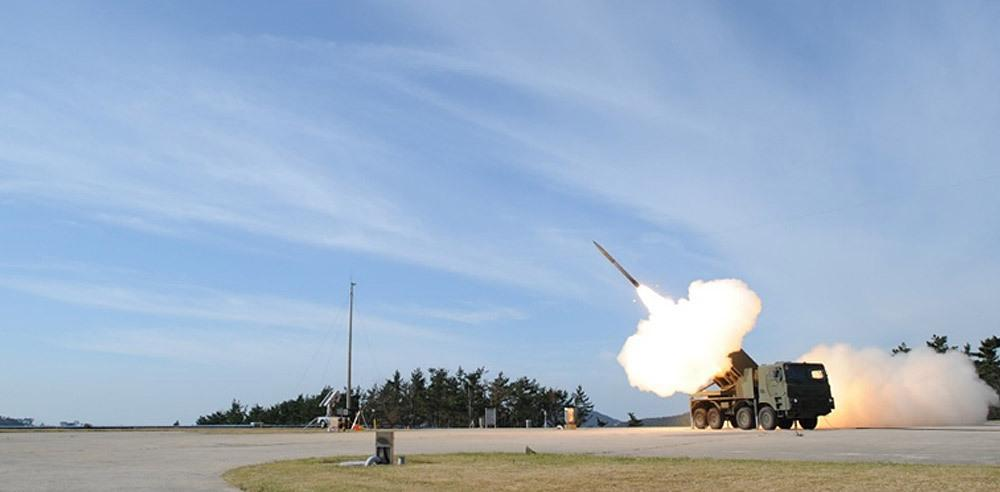MIL_IFV: (685, 339, 836, 434)
